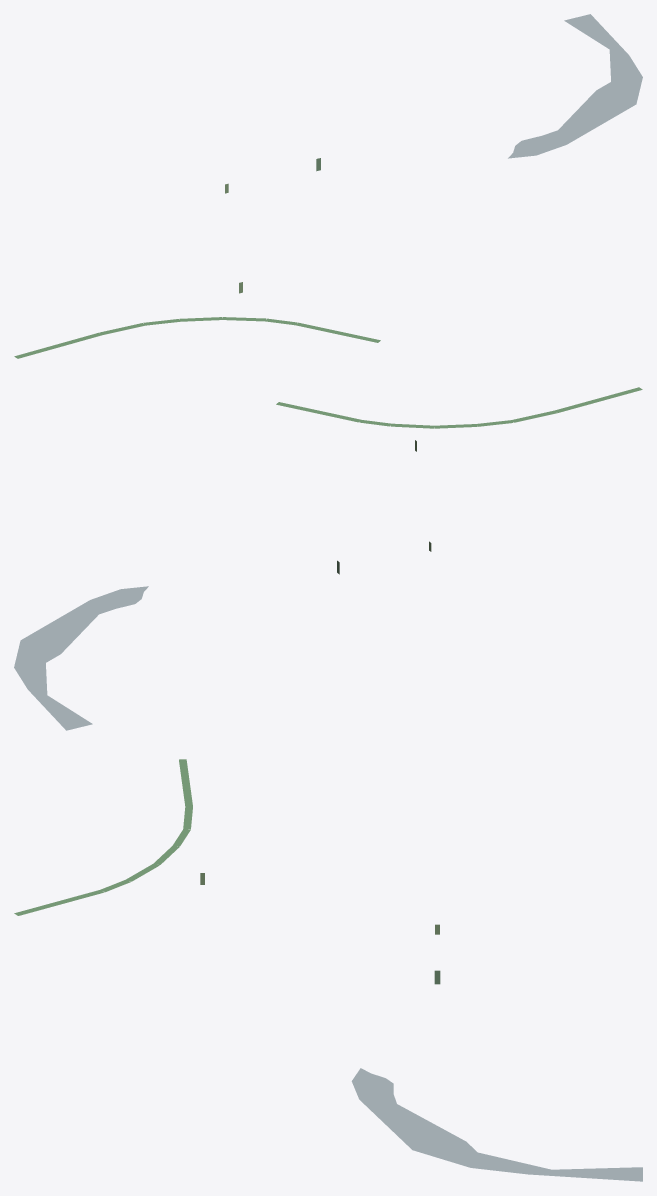
The picture shows the model from 3 angles, top to bottom: view 1: azimuth 30°, elevation 25°; view 2: azimuth 210°, elevation 25°; view 3: azimuth 270°, elevation 25°; orthographic projection. The views are drawn at different scales.
Size of the model in its own units: 512 by 8.21 by 321.
